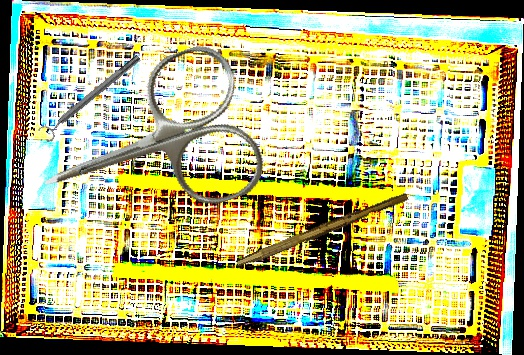Fixation Ring: (36, 50, 146, 144)
Iris Scissors: (17, 37, 273, 256)
Scalpel Handle: (235, 188, 410, 273)
